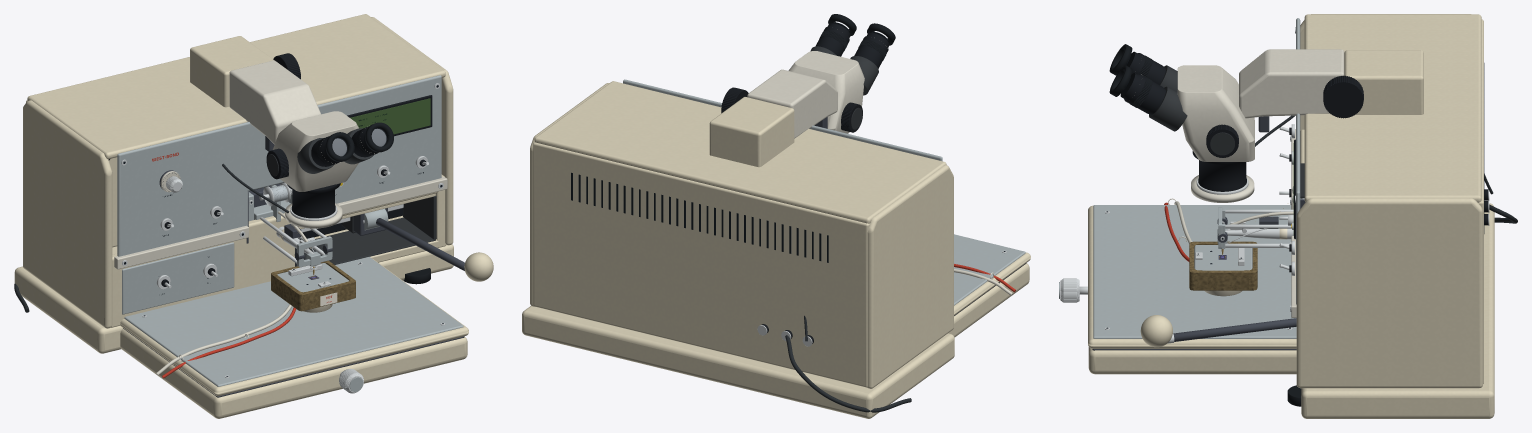
The picture shows the model from 3 angles, left to right: view 1: azimuth 30°, elevation 25°; view 2: azimuth 150°, elevation 25°; view 3: azimuth 270°, elevation 25°; orthographic projection. The views are drawn at different scales.
Visible parts, largest first — view 1: base__warm, base__brushed, base__ivory, scope_focus__ivory, base__graphite, scope_focus__black, base__steel, base__vermiculite, base__screen, base__black, scope_focus__rubber, tool_z__brushed (+8 smaller); view 2: base__warm, base__brushed, base__ivory, scope_focus__ivory, base__ink, scope_focus__black, scope_focus__rubber, base__wire, scope_focus__graphite; view 3: base__warm, base__brushed, base__ivory, scope_focus__ivory, scope_focus__black, base__black, base__vermiculite, scope_focus__graphite, tool_z__steel, base__steel, scope_focus__rubber, handle_z__darkmetal (+3 smaller).
Boxes of the visible parts, x1,y1,x2,y2 form: base__warm: [14, 14, 468, 418]; base__brushed: [117, 75, 463, 391]; base__ivory: [114, 60, 447, 375]; scope_focus__ivory: [272, 111, 358, 228]; base__graphite: [254, 182, 436, 266]; scope_focus__black: [266, 126, 387, 218]; base__steel: [121, 83, 445, 393]; base__vermiculite: [271, 260, 355, 311]; base__screen: [350, 98, 430, 134]; base__black: [161, 53, 432, 286]; scope_focus__rubber: [316, 122, 393, 165]; tool_z__brushed: [254, 185, 332, 267]; base__warm: [522, 81, 1030, 418]; base__brushed: [623, 79, 1025, 305]; base__ivory: [747, 69, 1012, 295]; scope_focus__ivory: [788, 51, 864, 133]; base__ink: [571, 172, 1005, 262]; scope_focus__black: [815, 23, 889, 132]; scope_focus__rubber: [820, 14, 895, 60]; base__wire: [785, 315, 911, 412]; scope_focus__graphite: [810, 46, 878, 129]; base__warm: [1088, 14, 1494, 418]; base__brushed: [1059, 18, 1300, 338]; base__ivory: [1174, 49, 1344, 317]; scope_focus__ivory: [1177, 65, 1254, 202]; scope_focus__black: [1120, 51, 1246, 191]; base__black: [1289, 75, 1488, 272]; base__vermiculite: [1189, 241, 1257, 290]; scope_focus__graphite: [1149, 65, 1234, 155]; tool_z__steel: [1220, 186, 1304, 255]; base__steel: [1060, 27, 1489, 329]; scope_focus__rubber: [1109, 44, 1152, 107]; handle_z__darkmetal: [1173, 318, 1296, 341].
Size of the model in its own units: 0.5822 by 0.365 by 0.5653.
Materials: 26 (20 with a texture image).
